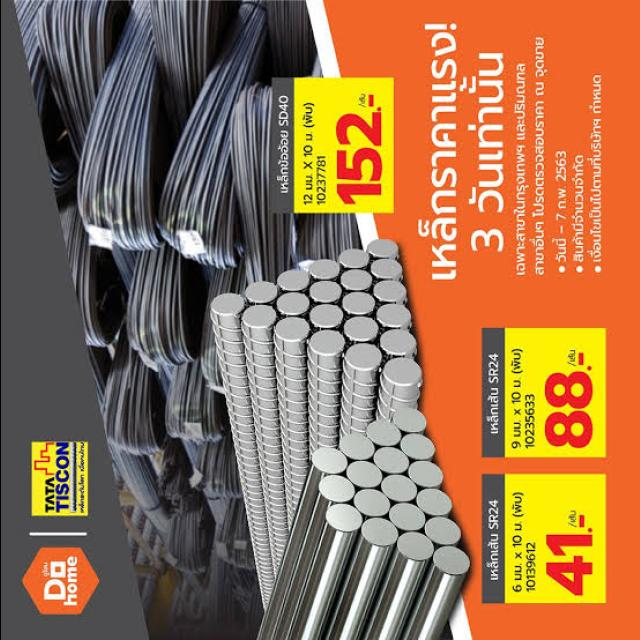Rebar: (430, 540, 466, 577), (308, 327, 344, 359), (208, 293, 248, 321), (382, 355, 417, 387), (426, 513, 461, 545), (378, 302, 414, 333), (343, 343, 379, 374), (318, 476, 352, 508), (399, 530, 433, 562), (379, 330, 417, 358), (364, 518, 396, 550), (371, 279, 408, 305), (368, 234, 404, 260), (345, 311, 376, 341), (242, 305, 273, 335), (349, 460, 380, 490), (416, 489, 449, 517), (308, 303, 340, 331), (394, 406, 426, 434), (311, 448, 345, 474), (340, 289, 370, 318), (403, 435, 434, 463), (273, 319, 309, 343), (411, 462, 443, 489), (330, 502, 358, 532), (368, 419, 398, 447), (378, 446, 405, 477), (310, 257, 339, 285), (383, 475, 411, 504), (358, 490, 386, 518), (392, 503, 420, 531), (340, 269, 369, 295), (278, 269, 309, 293), (276, 294, 308, 317), (345, 434, 371, 462), (245, 278, 275, 302), (370, 258, 403, 278), (338, 250, 368, 272), (308, 281, 339, 302)
